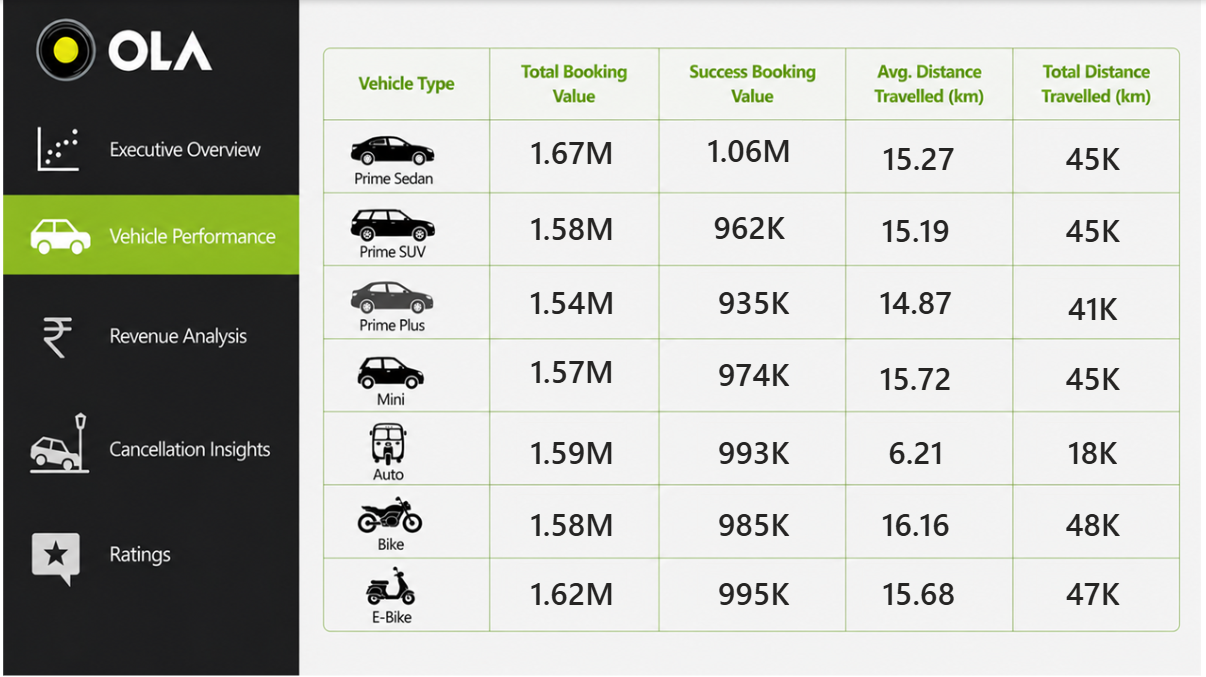

The page's visual inventory and layout, read from the dashboard file:
{"tool":"powerbi","page":{"name":"Vehicle Type","canvas":[1280,720],"ordinal":1},"visuals":[{"type":"actionButton","box":[11.1,550.4,302.2,82.7],"z":0},{"type":"actionButton","box":[4.8,426.3,313.4,89.1],"z":1000},{"type":"actionButton","box":[4.8,316.5,313.4,84.3],"z":2000},{"type":"actionButton","box":[0,203.6,313.4,84.3],"z":3000},{"type":"actionButton","box":[11.1,111.3,313.4,85.9],"z":4000},{"type":"cardVisual","title":"Total Bookings","fields":{"Data":["Sum(Bookings.Booking_Value)"]},"box":[542.4,124.1,140,66.8],"z":5000},{"type":"cardVisual","title":"Total Bookings","fields":{"Data":["Sum(Bookings.Booking_Value)"]},"box":[542.4,205.2,140,66.8],"z":6000},{"type":"cardVisual","title":"Total Bookings","fields":{"Data":["Sum(Bookings.Booking_Value)"]},"box":[542.4,283.1,140,66.8],"z":7000},{"type":"cardVisual","title":"Total Bookings","fields":{"Data":["Sum(Bookings.Booking_Value)"]},"box":[542.4,356.3,140,66.8],"z":8000},{"type":"cardVisual","title":"Total Bookings","fields":{"Data":["Sum(Bookings.Booking_Value)"]},"box":[542.4,442.2,140,66.8],"z":9000},{"type":"cardVisual","title":"Total Bookings","fields":{"Data":["Sum(Bookings.Booking_Value)"]},"box":[542.4,518.5,140,66.8],"z":10000},{"type":"cardVisual","title":"Total Bookings","fields":{"Data":["Sum(Bookings.Booking_Value)"]},"box":[542.4,591.7,140,66.8],"z":11000},{"type":"cardVisual","title":"Total Bookings","fields":{"Data":["Sum(Bookings.Booking_Value)"]},"box":[730.1,122.5,140,66.8],"z":12000},{"type":"cardVisual","title":"Total Bookings","fields":{"Data":["Sum(Bookings.Booking_Value)"]},"box":[729.9,204.2,140,66.8],"z":13000},{"type":"cardVisual","title":"Total Bookings","fields":{"Data":["Sum(Bookings.Booking_Value)"]},"box":[734.1,283.4,140,66.8],"z":14000},{"type":"cardVisual","title":"Total Bookings","fields":{"Data":["Sum(Bookings.Booking_Value)"]},"box":[734.1,358.8,140,66.8],"z":15000},{"type":"cardVisual","title":"Total Bookings","fields":{"Data":["Sum(Bookings.Booking_Value)"]},"box":[734.9,442.2,140,66.8],"z":16000},{"type":"cardVisual","title":"Total Bookings","fields":{"Data":["Sum(Bookings.Booking_Value)"]},"box":[734.9,518.5,140,66.8],"z":17000},{"type":"cardVisual","title":"Total Bookings","fields":{"Data":["Sum(Bookings.Booking_Value)"]},"box":[734.9,591.7,140,66.8],"z":18000},{"type":"cardVisual","title":"Total Bookings","fields":{"Data":["Avg(Bookings.Ride_Distance)"]},"box":[909.8,130.4,140,66.8],"z":19000},{"type":"cardVisual","title":"Total Bookings","fields":{"Data":["Avg(Bookings.Ride_Distance)"]},"box":[906.6,206.8,140,66.8],"z":21000},{"type":"cardVisual","title":"Total Bookings","fields":{"Data":["Avg(Bookings.Ride_Distance)"]},"box":[906.6,283.1,140,66.8],"z":22000},{"type":"cardVisual","title":"Total Bookings","fields":{"Data":["Avg(Bookings.Ride_Distance)"]},"box":[906.6,364.2,140,66.8],"z":23000},{"type":"cardVisual","title":"Total Bookings","fields":{"Data":["Avg(Bookings.Ride_Distance)"]},"box":[906.6,442.2,140,66.8],"z":24000},{"type":"cardVisual","title":"Total Bookings","fields":{"Data":["Avg(Bookings.Ride_Distance)"]},"box":[906.6,518.5,140,66.8],"z":25000},{"type":"cardVisual","title":"Total Bookings","fields":{"Data":["Avg(Bookings.Ride_Distance)"]},"box":[909.8,591.7,140,66.8],"z":26000},{"type":"cardVisual","title":"Total Bookings","fields":{"Data":["Sum(Bookings.Ride_Distance)"]},"box":[1094.3,130.4,140,66.8],"z":27000},{"type":"cardVisual","title":"Total Bookings","fields":{"Data":["Sum(Bookings.Ride_Distance)"]},"box":[1094.3,206.8,140,66.8],"z":28000},{"type":"cardVisual","title":"Total Bookings","fields":{"Data":["Sum(Bookings.Ride_Distance)"]},"box":[1094.3,289.5,140,66.8],"z":29000},{"type":"cardVisual","title":"Total Bookings","fields":{"Data":["Sum(Bookings.Ride_Distance)"]},"box":[1094.3,364.2,140,66.8],"z":30000},{"type":"cardVisual","title":"Total Bookings","fields":{"Data":["Sum(Bookings.Ride_Distance)"]},"box":[1094.3,442.2,140,66.8],"z":31000},{"type":"cardVisual","title":"Total Bookings","fields":{"Data":["Sum(Bookings.Ride_Distance)"]},"box":[1094.3,518.5,140,66.8],"z":32000},{"type":"cardVisual","title":"Total Bookings","fields":{"Data":["Sum(Bookings.Ride_Distance)"]},"box":[1094.3,591.7,140,66.8],"z":33000}]}

Visuals, with their boxes in screenshot pixels (x1, y1, x2, y2), scaled from the page's 1280x720 canvas onto the 1206x677 screenshot:
actionButton: pyautogui.locateOnScreen(10, 518, 295, 595)
actionButton: pyautogui.locateOnScreen(5, 401, 300, 485)
actionButton: pyautogui.locateOnScreen(5, 298, 300, 377)
actionButton: pyautogui.locateOnScreen(0, 191, 295, 271)
actionButton: pyautogui.locateOnScreen(10, 105, 306, 185)
"Total Bookings" cardVisual: pyautogui.locateOnScreen(511, 117, 643, 179)
"Total Bookings" cardVisual: pyautogui.locateOnScreen(511, 193, 643, 256)
"Total Bookings" cardVisual: pyautogui.locateOnScreen(511, 266, 643, 329)
"Total Bookings" cardVisual: pyautogui.locateOnScreen(511, 335, 643, 398)
"Total Bookings" cardVisual: pyautogui.locateOnScreen(511, 416, 643, 479)
"Total Bookings" cardVisual: pyautogui.locateOnScreen(511, 488, 643, 550)
"Total Bookings" cardVisual: pyautogui.locateOnScreen(511, 556, 643, 619)
"Total Bookings" cardVisual: pyautogui.locateOnScreen(688, 115, 820, 178)
"Total Bookings" cardVisual: pyautogui.locateOnScreen(688, 192, 820, 255)
"Total Bookings" cardVisual: pyautogui.locateOnScreen(692, 266, 824, 329)
"Total Bookings" cardVisual: pyautogui.locateOnScreen(692, 337, 824, 400)
"Total Bookings" cardVisual: pyautogui.locateOnScreen(692, 416, 824, 479)
"Total Bookings" cardVisual: pyautogui.locateOnScreen(692, 488, 824, 550)
"Total Bookings" cardVisual: pyautogui.locateOnScreen(692, 556, 824, 619)
"Total Bookings" cardVisual: pyautogui.locateOnScreen(857, 123, 989, 185)
"Total Bookings" cardVisual: pyautogui.locateOnScreen(854, 194, 986, 257)
"Total Bookings" cardVisual: pyautogui.locateOnScreen(854, 266, 986, 329)
"Total Bookings" cardVisual: pyautogui.locateOnScreen(854, 342, 986, 405)
"Total Bookings" cardVisual: pyautogui.locateOnScreen(854, 416, 986, 479)
"Total Bookings" cardVisual: pyautogui.locateOnScreen(854, 488, 986, 550)
"Total Bookings" cardVisual: pyautogui.locateOnScreen(857, 556, 989, 619)
"Total Bookings" cardVisual: pyautogui.locateOnScreen(1031, 123, 1163, 185)
"Total Bookings" cardVisual: pyautogui.locateOnScreen(1031, 194, 1163, 257)
"Total Bookings" cardVisual: pyautogui.locateOnScreen(1031, 272, 1163, 335)
"Total Bookings" cardVisual: pyautogui.locateOnScreen(1031, 342, 1163, 405)
"Total Bookings" cardVisual: pyautogui.locateOnScreen(1031, 416, 1163, 479)
"Total Bookings" cardVisual: pyautogui.locateOnScreen(1031, 488, 1163, 550)
"Total Bookings" cardVisual: pyautogui.locateOnScreen(1031, 556, 1163, 619)
